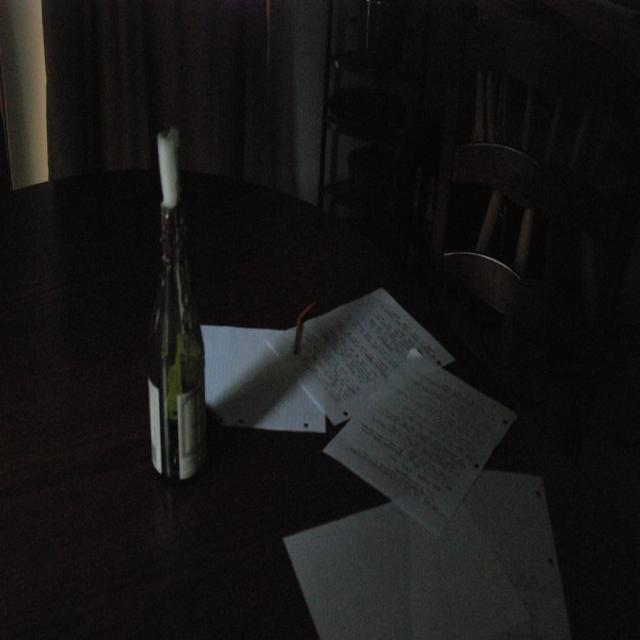Bottle: (119, 128, 207, 502)
Table: (1, 155, 640, 640)
chair: (416, 104, 597, 365)
